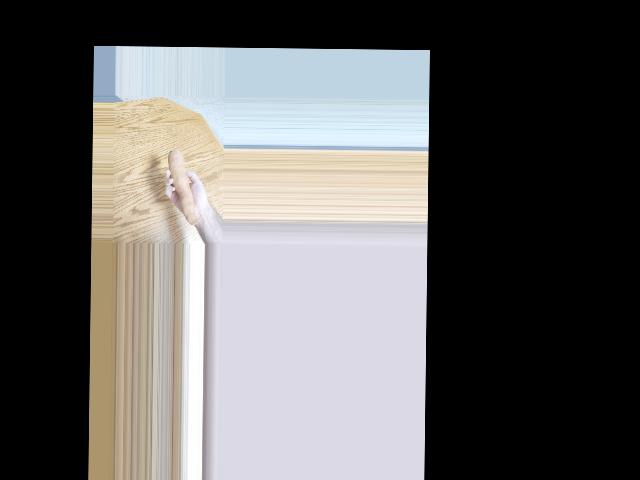sweet_potato: (165, 152, 195, 221)
